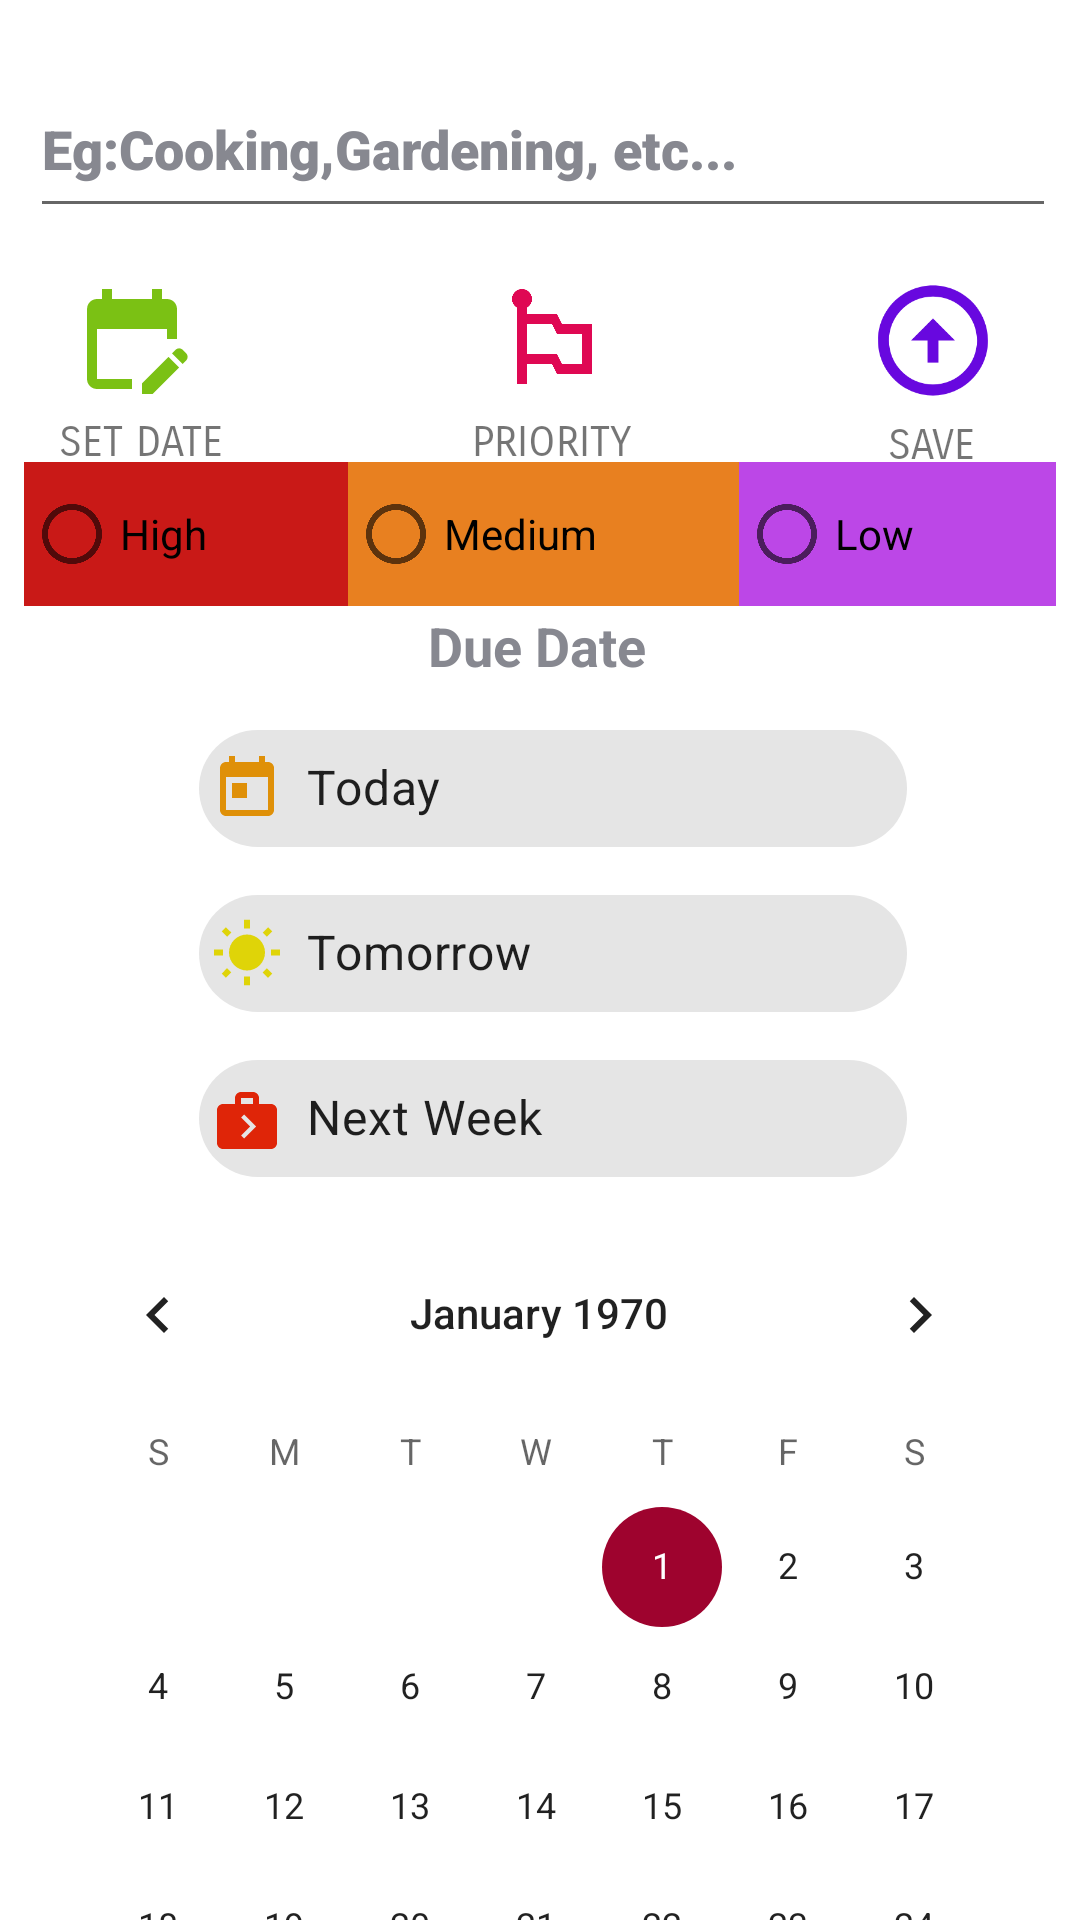

Locate icon controls on the screen. Image size 1080 × 1920, boxes as (x1, y1, x2, y2).
arrow circle up: (878, 285, 988, 396)
edit calendar: (87, 289, 188, 394)
emoji flags: (512, 289, 592, 384)
